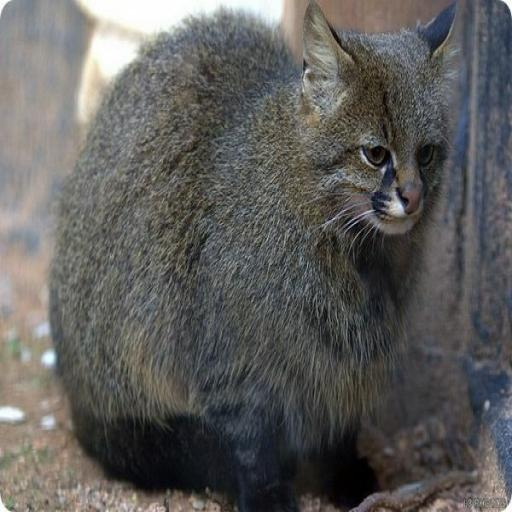cat: (49, 1, 456, 511)
